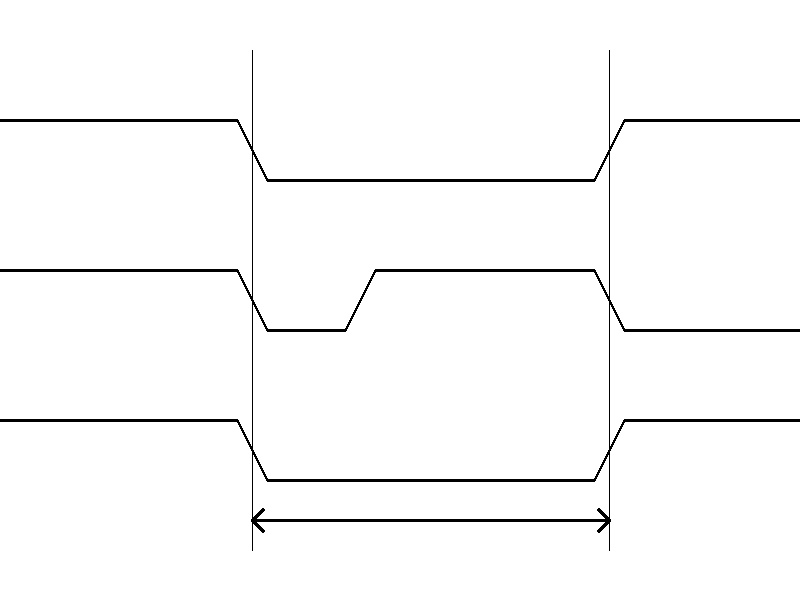double_arrow: (252, 505, 609, 535)
